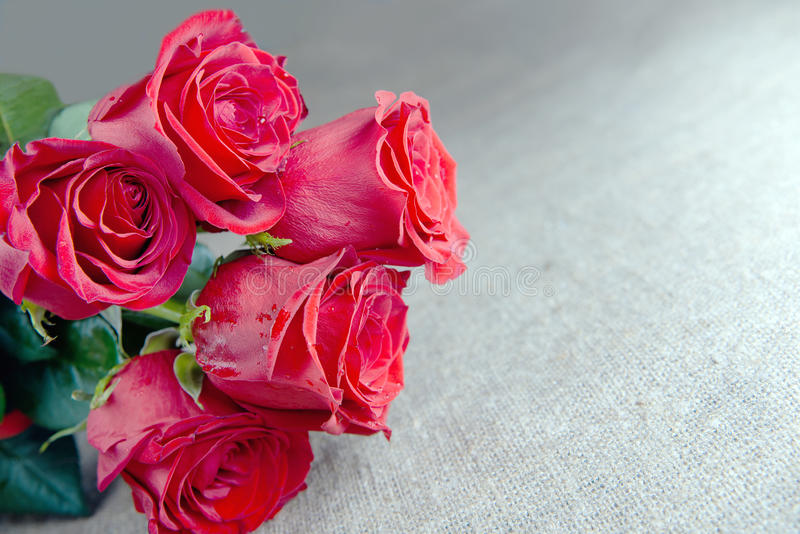RedRose: (88, 2, 317, 235), (78, 337, 322, 533), (267, 64, 480, 285), (184, 239, 406, 438), (1, 130, 203, 322)
